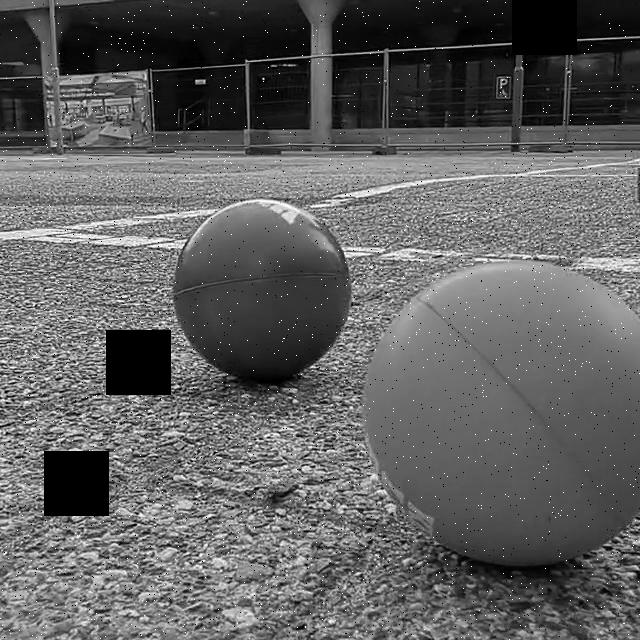ball: (361, 257, 640, 574), (169, 195, 353, 384)
